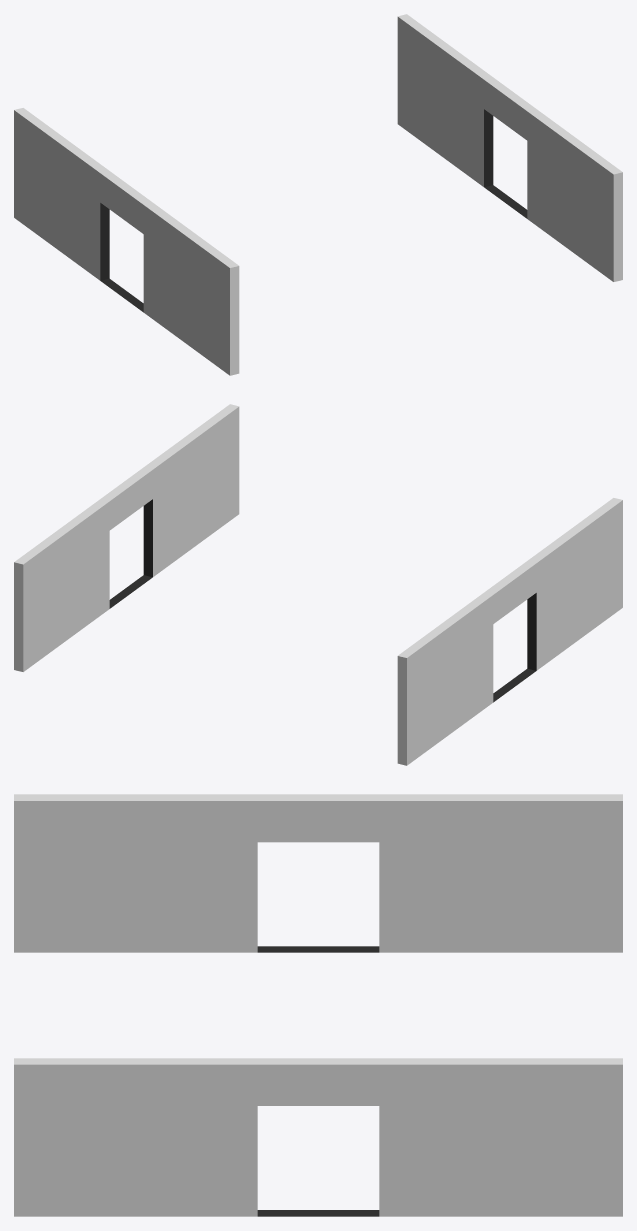
Rendered from Sciences_FIll.fbx.
The picture shows the model from 3 angles, top to bottom: view 1: azimuth 30°, elevation 25°; view 2: azimuth 150°, elevation 25°; view 3: azimuth 270°, elevation 25°; orthographic projection. The views are drawn at different scales.
Parts seen in each view (by area): view 1: Sciences_Fill; view 2: Sciences_Fill; view 3: Sciences_Fill.
Boxes of the visible parts, x1,y1,x2,y2 form: Sciences_Fill: (14,14,622,375); Sciences_Fill: (14,404,622,765); Sciences_Fill: (14,794,622,1216).
Bounding box in the file's own units: 4200 × 1100 × 4000.
